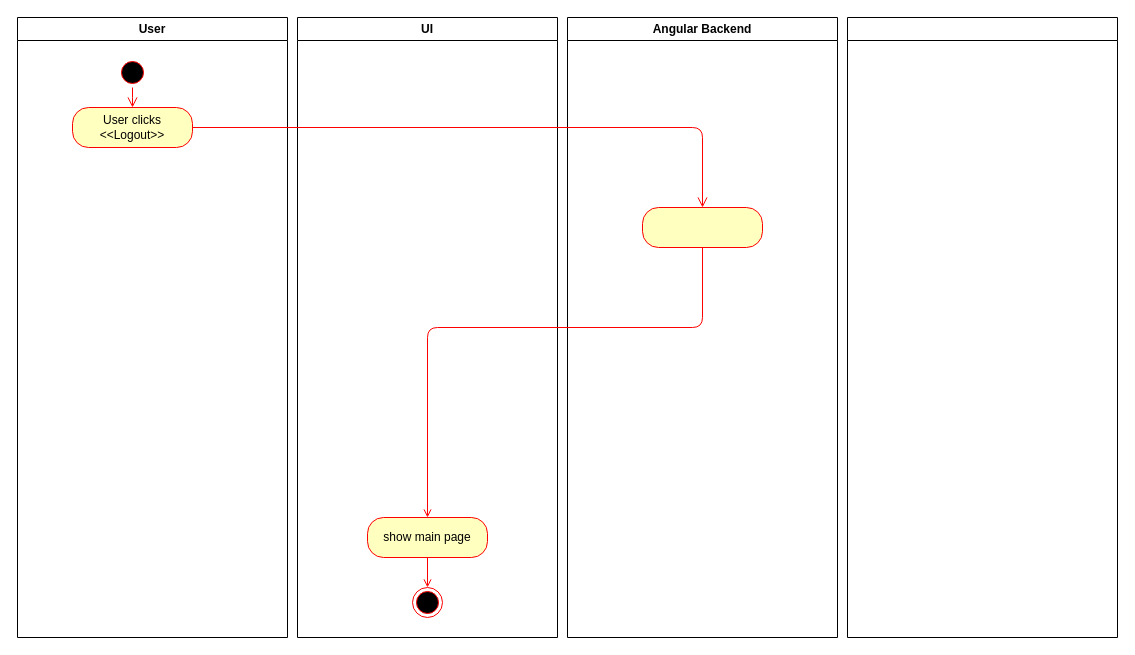
Image size: 1135x655. Some labels were removed from this diagram. Each missing label, with the centre of its shape:
"GameBase Daemon" belongs at pixel 982 327.
"logout user" belongs at pixel 702 227.
